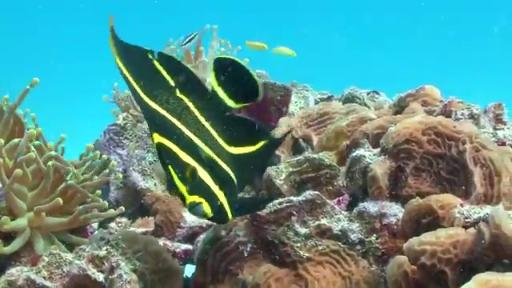Fish: (110, 19, 283, 223)
